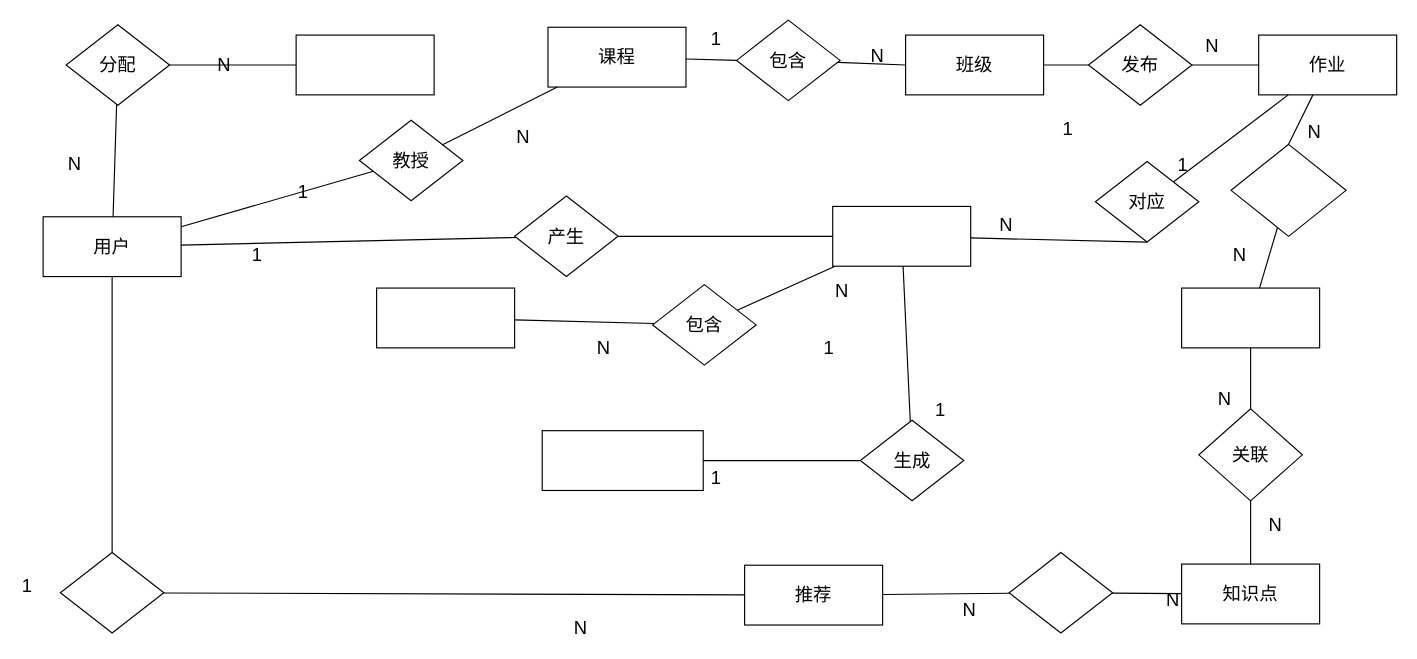
The diagram is 1417 pixels wide and 659 high, and some of its shapes have lost their labels. Each missing label, with the centre of its shape:
"作答" goes at (x=445, y=317).
"包含题目" goes at (x=1288, y=189).
"批改结果" goes at (x=622, y=460).
"指向" goes at (x=1060, y=592).
"接收" goes at (x=111, y=592).
"提交" goes at (x=901, y=235).
"角色" goes at (x=364, y=64).
"题目" goes at (x=1250, y=317).
